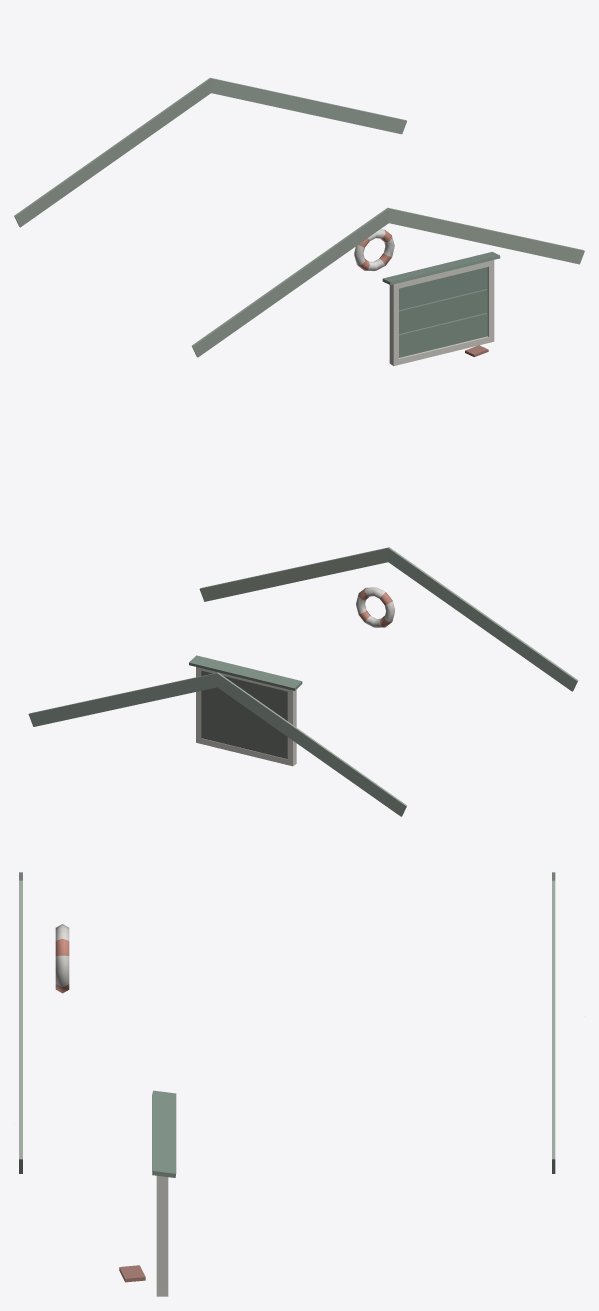
The model's file is Boathouse_paint.glb.
3 renders of one model, top to bottom at view 1: azimuth 30°, elevation 25°; view 2: azimuth 150°, elevation 25°; view 3: azimuth 270°, elevation 25°, orthographic. The views are drawn at different scales.
Visible parts, largest first — view 1: Boathouse_paint; view 2: Boathouse_paint; view 3: Boathouse_paint.
Part boxes in pixels (bbox=[...]): Boathouse_paint: bbox=[14, 77, 584, 366]; Boathouse_paint: bbox=[28, 547, 578, 816]; Boathouse_paint: bbox=[19, 872, 555, 1296].
Size of the model in its own units: 17.95 by 11.38 by 14.7.
